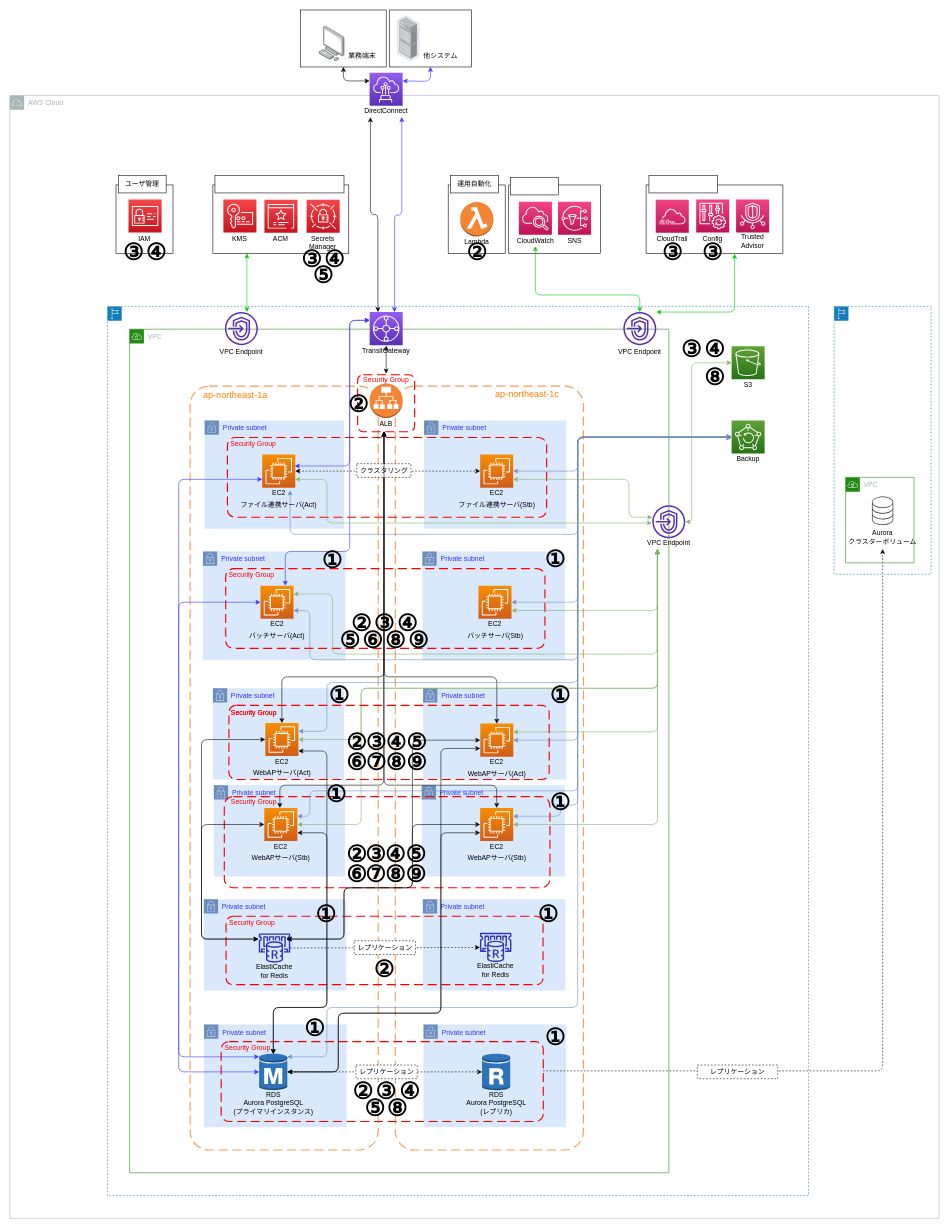
Image size: 949x1228. Some labels were removed from this diagram. The shapes that lost their labels are listed below. From the top down, each one's box as (x1, y1, x2, y2) in pixels, then its label:
(214, 175, 344, 193): 鍵・証明書・クレンデンシャル情報管理
(510, 177, 558, 195): 監視
(648, 175, 717, 193): 監査・構成情報管理
(834, 306, 931, 574): Osaka Region
(107, 306, 809, 1196): Tokyo Region
